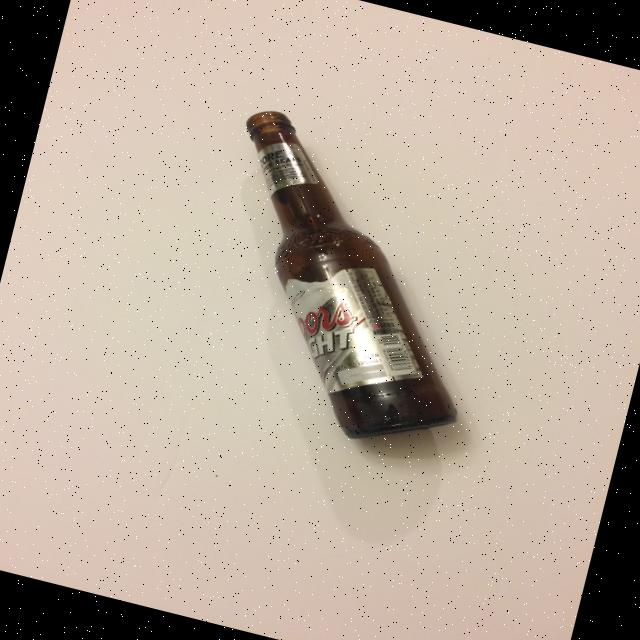glass: (176, 104, 520, 462)
